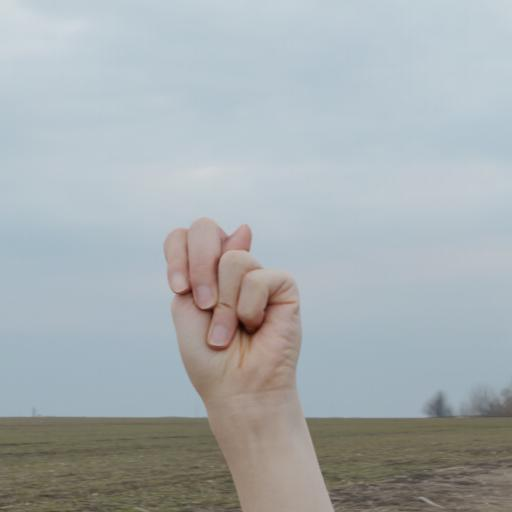N: (140, 193, 425, 506)
